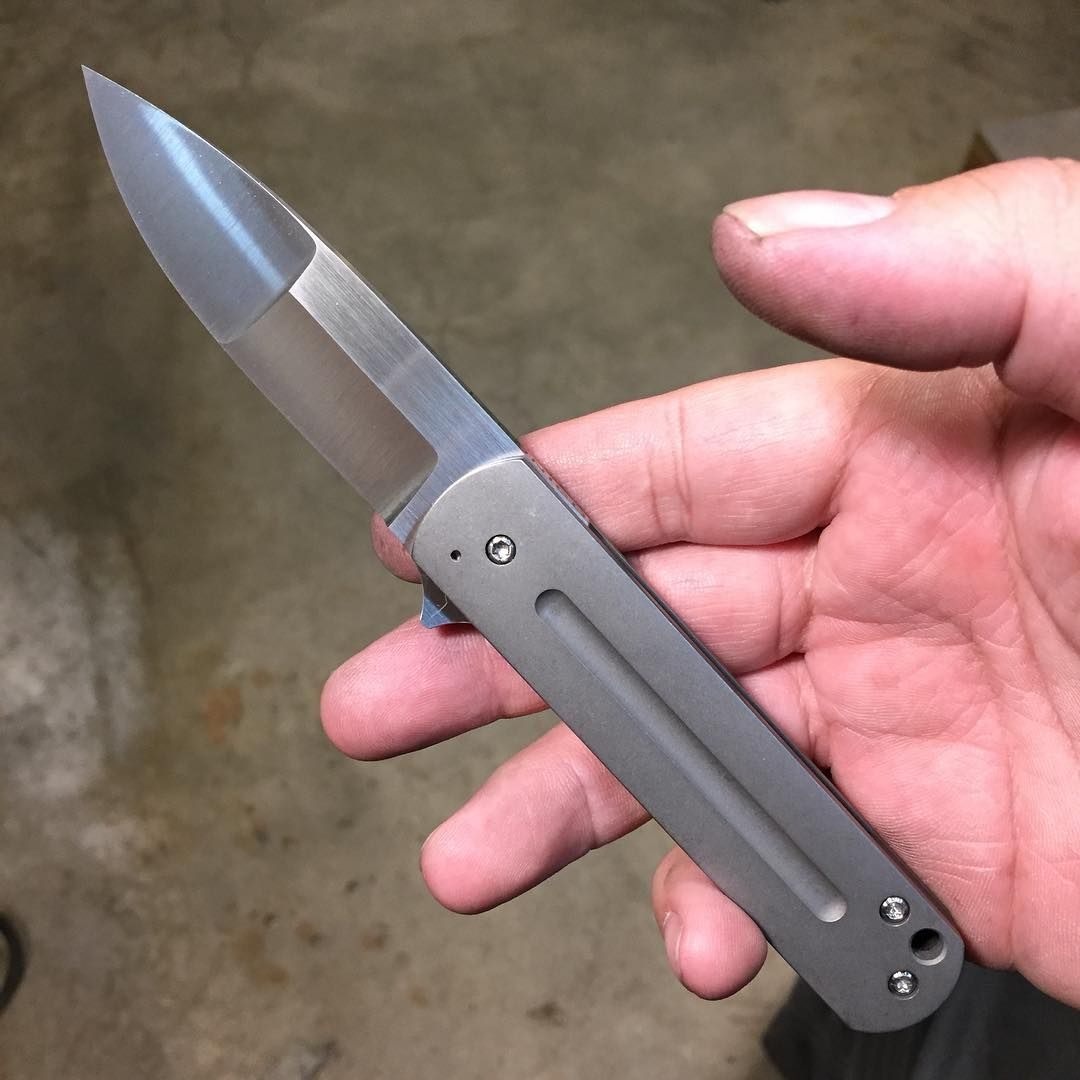knife: (73, 49, 990, 1042)
